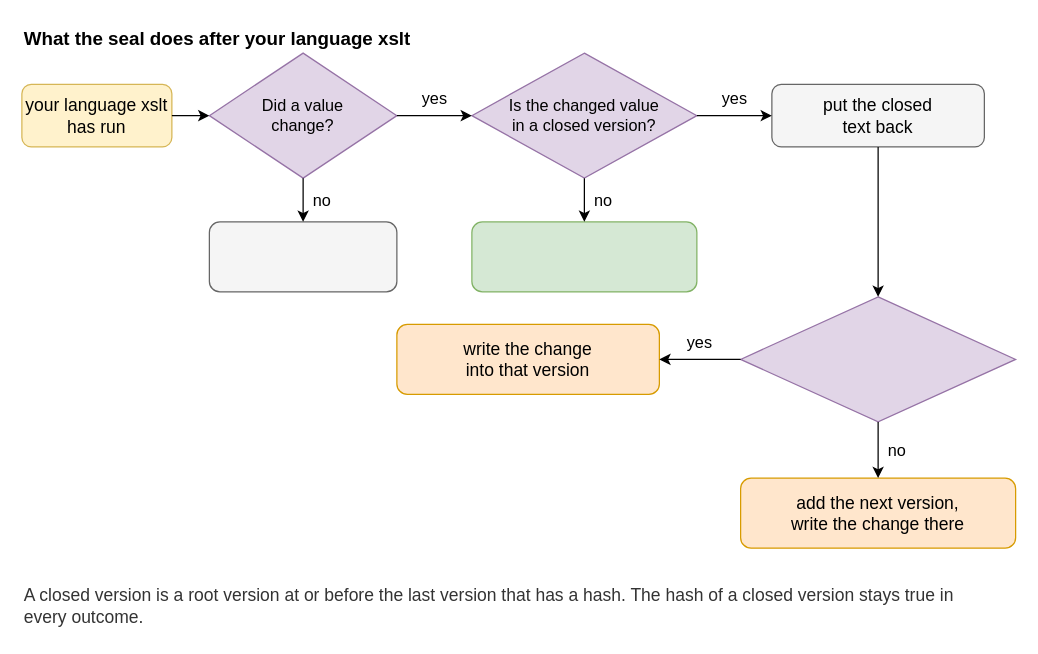
Some shapes in this 1038 by 654 pixel diagram are drawn without their labels. Each missing label, with the centre of its shape:
"Is there a version after the last hash?" belongs at (877,359).
"nothing happens, no version is added" belongs at (302,256).
"the change stays: that version is open" belongs at (584,256).
